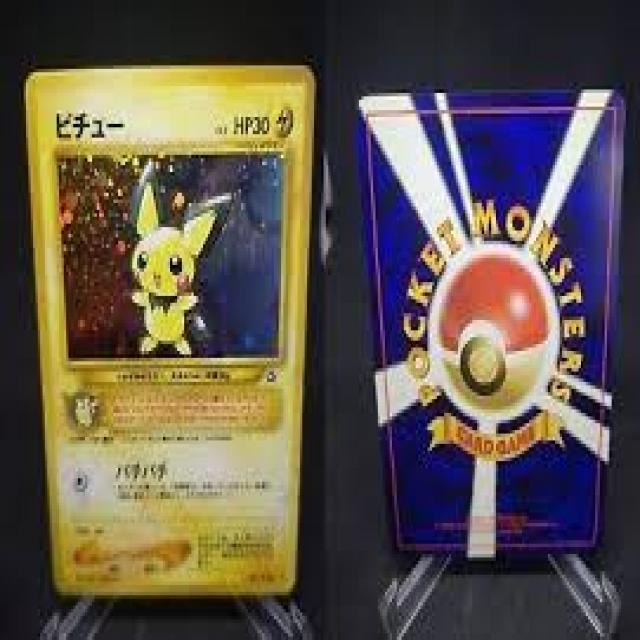pichu: (120, 172, 214, 353)
